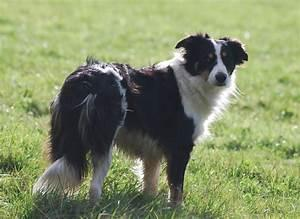dog: (31, 31, 248, 209)
